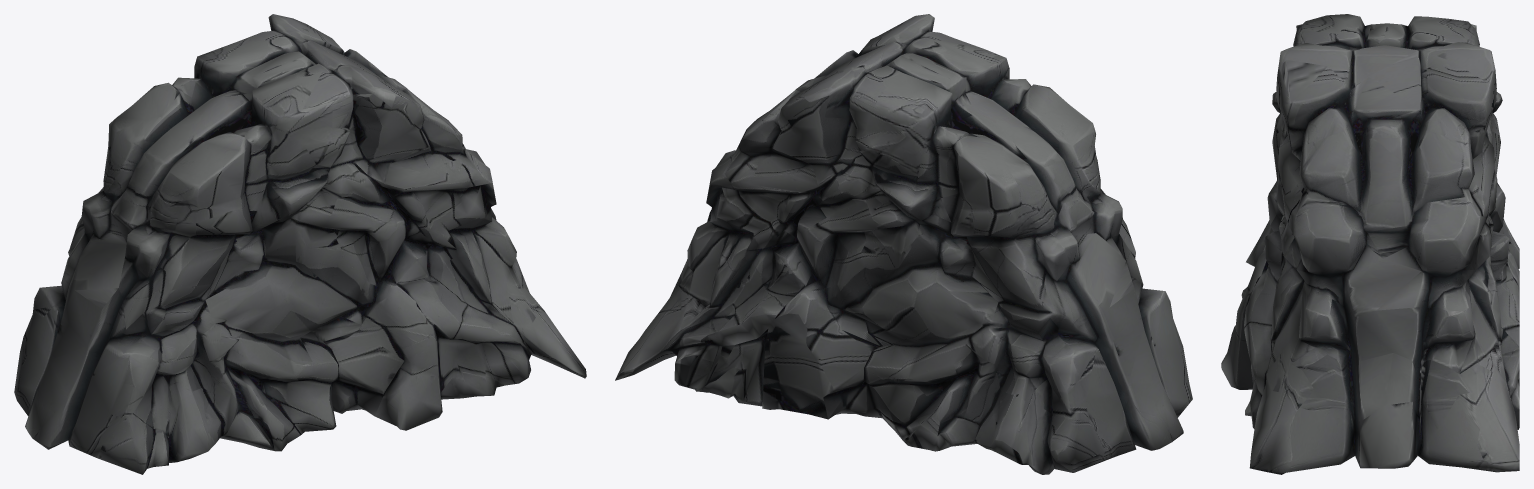
The model's file is outcrop.glb.
3 views of the same model, side by side, from view 1: azimuth 30°, elevation 25°; view 2: azimuth 150°, elevation 25°; view 3: azimuth 270°, elevation 25° (orthographic).
Visible parts, largest first — view 1: OUTCROP; view 2: OUTCROP; view 3: OUTCROP.
Boxes of the visible parts, x1,y1,x2,y2 form: OUTCROP: (14,14,586,474); OUTCROP: (615,14,1192,474); OUTCROP: (1221,14,1519,474).
Bounding box in the file's own units: 2.47 × 1.55 × 1.27.
1 material, 1 textured.
